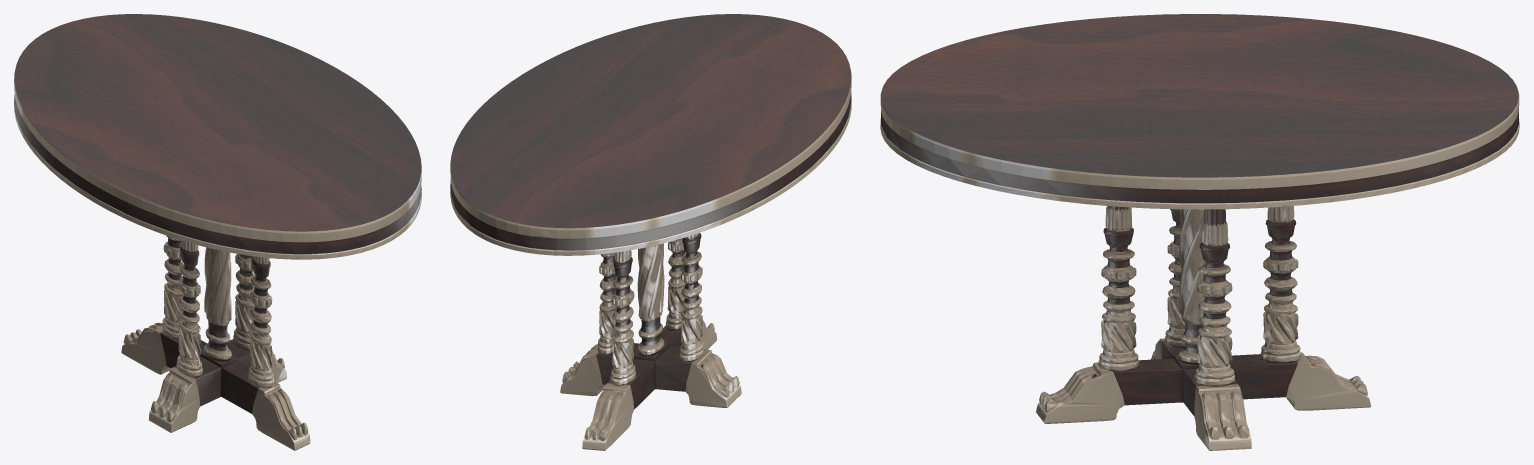
The model's file is 9_ffd71c3f-5625-4090-a8d7-a3caba1af504.obj.
3 views of the same model, side by side, from view 1: azimuth 30°, elevation 25°; view 2: azimuth 150°, elevation 25°; view 3: azimuth 270°, elevation 25° (orthographic). The views are drawn at different scales.
Bounding box in the file's own units: 0.848 × 0.7594 × 1.4.
1 material, 1 textured.
